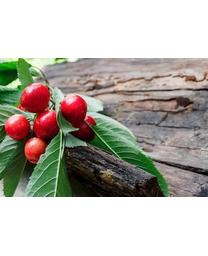cherry: (60, 94, 88, 126), (21, 83, 51, 112), (32, 113, 60, 140), (24, 137, 48, 162), (6, 115, 30, 138)
